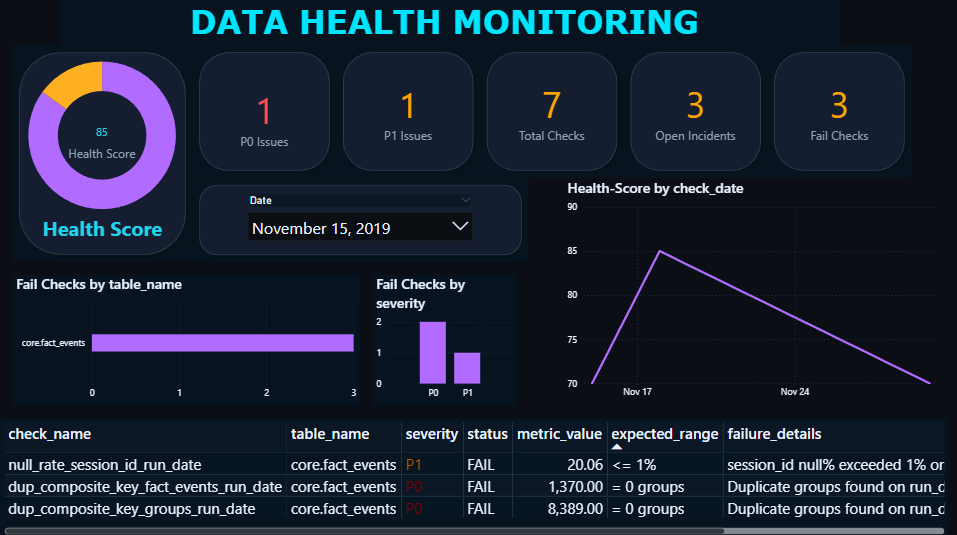

This screenshot's page, from the dashboard's own definition file:
{"tool":"powerbi","page":{"name":"Page 1","canvas":[1280,720],"ordinal":0},"visuals":[{"type":"shape","box":[16,64,240,288],"z":0},{"type":"shape","box":[256,64,192,176],"z":1000},{"type":"shape","box":[448,64,192,176],"z":2000},{"type":"shape","box":[832,64,192,176],"z":3000},{"type":"shape","box":[640,64,192,176],"z":4000},{"type":"card","fields":{"Values":["health_daily.Health Score"]},"box":[80,160,112,64],"z":5000},{"type":"card","fields":{"Values":["health_daily.P0 Issues"]},"box":[256,64,192,192],"z":6000},{"type":"card","fields":{"Values":["health_daily.P1 Issues"]},"box":[448,64,192,176],"z":7000},{"type":"card","fields":{"Values":["health_daily.Total Checks"]},"box":[640,64,192,176],"z":8000},{"type":"card","fields":{"Values":["health_daily.Open Incidents"]},"box":[832,64,192,176],"z":9000},{"type":"donutChart","fields":{"Y":["health_daily.Health Score %","health_daily.Health Remainder %"]},"box":[8,24,256,320],"z":10000},{"type":"lineChart","fields":{"Y":["health_daily (2).Health-Score"],"Category":["health_daily (2).check_date"]},"box":[752,240,512,304],"z":11000},{"type":"shape","box":[256,240,448,112],"z":12000},{"type":"slicer","fields":{"Values":["DimDate3.Date"]},"box":[320,256,320,80],"z":13000},{"type":"tableEx","fields":{"Values":["check_results_with_incidents.check_name","check_results_with_incidents.table_name","check_results_with_incidents.severity","check_results_with_incidents.status","check_results_with_incidents.metric_value","check_results_with_incidents.expected_range","check_results_with_incidents.failure_details","check_results_with_incidents.incident_id","check_results_with_incidents.incident_summary"]},"box":[0,560,1264,160],"z":14000},{"type":"clusteredColumnChart","fields":{"Category":["check_results_with_incidents.severity"],"Y":["check_results_with_incidents.Fail Checks"]},"box":[496,368,192,176],"z":15000},{"type":"textbox","box":[80,0,1040,64],"z":16000},{"type":"textbox","box":[16,288,240,48],"z":17000},{"type":"shape","box":[1024,64,192,176],"z":18000},{"type":"card","fields":{"Values":["check_results_with_incidents.Fail Checks"]},"box":[1024,64,192,176],"z":19000},{"type":"clusteredBarChart","fields":{"Category":["check_results_with_incidents.table_name"],"Y":["check_results_with_incidents.Fail Checks"]},"box":[16,368,464,176],"z":20000}]}

Visuals, with their boxes in screenshot pixels (x1, y1, x2, y2), scaled from the page's 1280x720 canvas onto the 957x535 screenshot:
shape: rect(12, 48, 191, 262)
shape: rect(191, 48, 335, 178)
shape: rect(335, 48, 478, 178)
shape: rect(622, 48, 766, 178)
shape: rect(478, 48, 622, 178)
card - health_daily.Health Score: rect(60, 119, 144, 166)
card - health_daily.P0 Issues: rect(191, 48, 335, 190)
card - health_daily.P1 Issues: rect(335, 48, 478, 178)
card - health_daily.Total Checks: rect(478, 48, 622, 178)
card - health_daily.Open Incidents: rect(622, 48, 766, 178)
donutChart - health_daily.Health Score % x health_daily.Health Remainder %: rect(6, 18, 197, 256)
lineChart - health_daily (2).Health-Score x health_daily (2).check_date: rect(562, 178, 945, 404)
shape: rect(191, 178, 526, 262)
slicer - DimDate3.Date: rect(239, 190, 478, 250)
tableEx - check_results_with_incidents.check_name x check_results_with_incidents.table_name: rect(0, 416, 945, 534)
clusteredColumnChart - check_results_with_incidents.severity x check_results_with_incidents.Fail Checks: rect(371, 273, 514, 404)
textbox: rect(60, 0, 837, 48)
textbox: rect(12, 214, 191, 250)
shape: rect(766, 48, 909, 178)
card - check_results_with_incidents.Fail Checks: rect(766, 48, 909, 178)
clusteredBarChart - check_results_with_incidents.table_name x check_results_with_incidents.Fail Checks: rect(12, 273, 359, 404)
